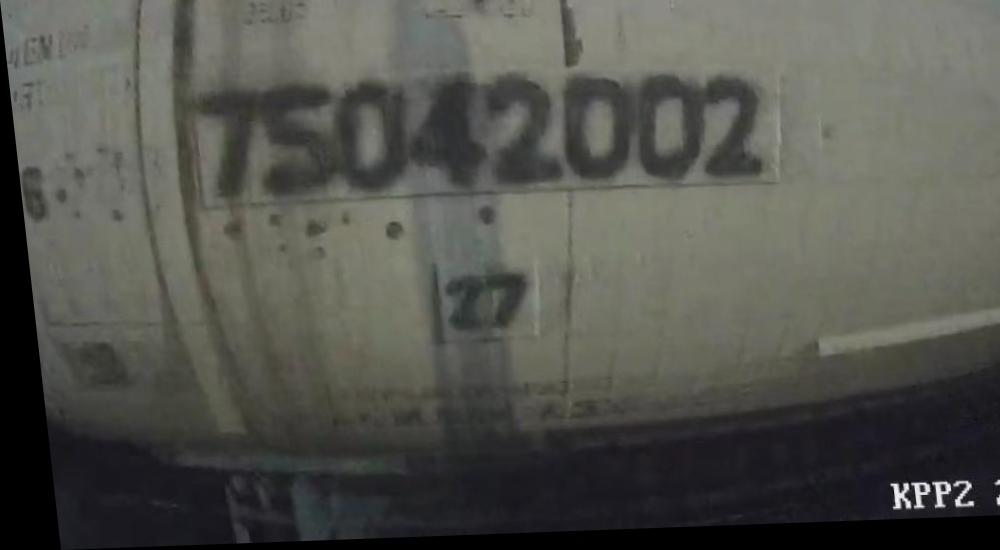Wagon-number: (184, 64, 768, 203)
